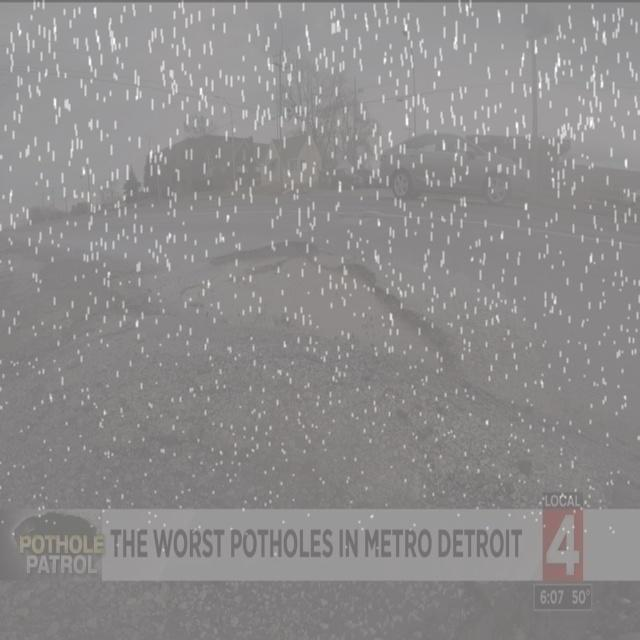Pothole: (194, 224, 470, 408)
